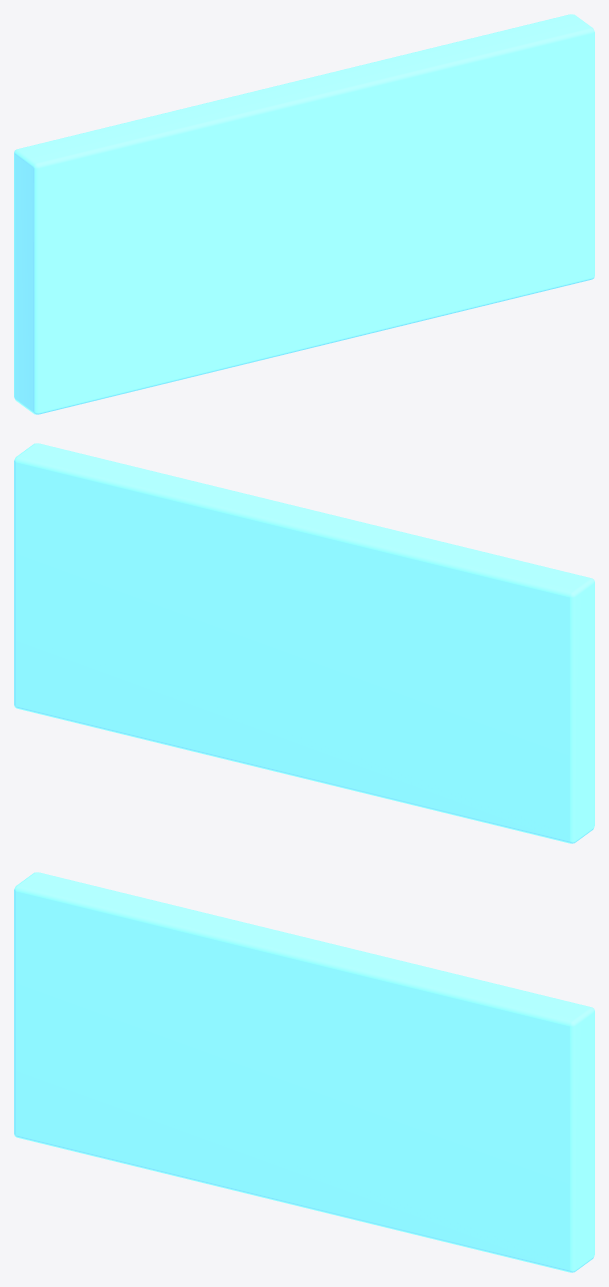
The model's file is instrument_cluster.glb.
The picture shows the model from 3 angles, top to bottom: view 1: azimuth 30°, elevation 25°; view 2: azimuth 150°, elevation 25°; view 3: azimuth 330°, elevation 25°; orthographic projection.
Visible parts, largest first — view 1: GEO_Instrument_Cluster; view 2: GEO_Instrument_Cluster; view 3: GEO_Instrument_Cluster.
Boxes of the visible parts, box(x1,y1,x2,y2) form: GEO_Instrument_Cluster: box(14, 14, 594, 414); GEO_Instrument_Cluster: box(14, 443, 594, 843); GEO_Instrument_Cluster: box(14, 872, 594, 1272).
Bounding box in the file's own units: 0.28 × 0.12 × 0.02.
